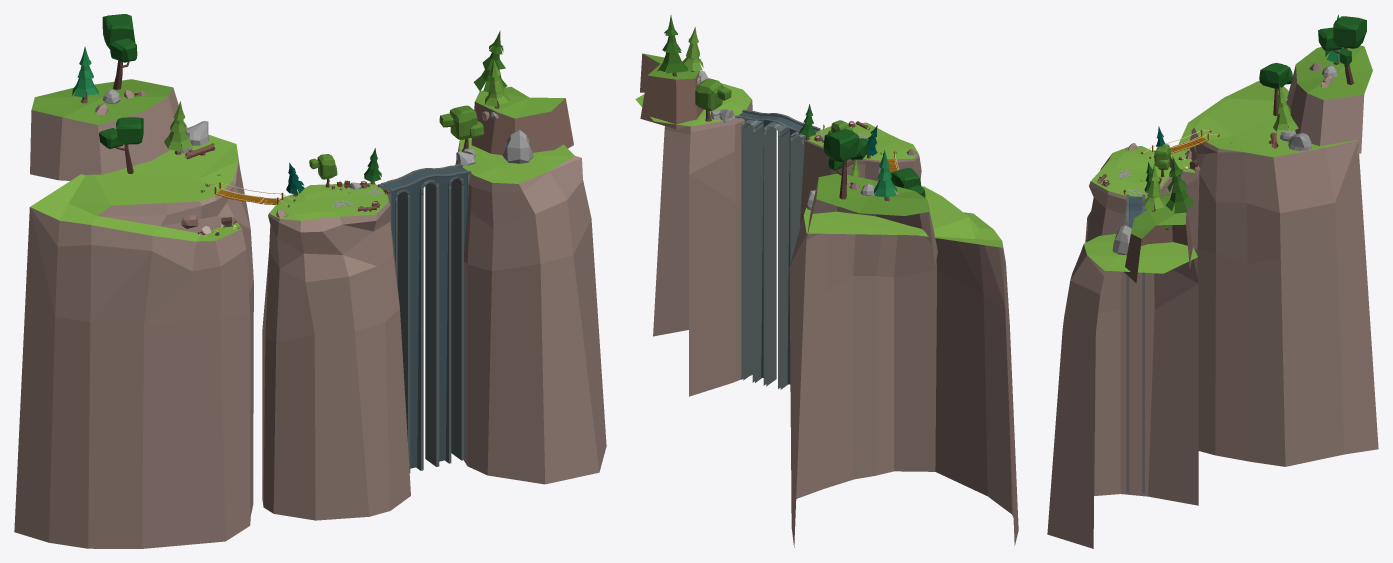
Rendered from Escenario_Completo (1).FBX.
The picture shows the model from 3 angles, left to right: view 1: azimuth 30°, elevation 25°; view 2: azimuth 150°, elevation 25°; view 3: azimuth 270°, elevation 25°; orthographic projection. The views are drawn at different scales.
Parts seen in each view (by area): view 1: Isla_Izquierda, Isla_Derecha, Isla_Central, Puente_Pierda, Detalle_Izquierda, Detalle_Derecha, Detalles_Central, Puente_Madera; view 2: Isla_Izquierda, Isla_Derecha, Puente_Pierda, Isla_Central, Detalle_Izquierda, Detalle_Derecha, Detalles_Central; view 3: Isla_Izquierda, Isla_Derecha, Detalle_Izquierda, Isla_Central, Puente_Pierda, Detalle_Derecha, Detalles_Central, Puente_Madera.
Part boxes in pixels (<box>): Isla_Izquierda: <box>14,79,253,548</box>; Isla_Derecha: <box>455,86,606,484</box>; Isla_Central: <box>262,182,410,520</box>; Puente_Pierda: <box>377,164,471,472</box>; Detalle_Izquierda: <box>72,14,241,235</box>; Detalle_Derecha: <box>439,30,533,167</box>; Detalles_Central: <box>276,148,387,217</box>; Puente_Madera: <box>200,182,296,207</box>; Isla_Izquierda: <box>789,173,1018,547</box>; Isla_Derecha: <box>635,53,752,396</box>; Puente_Pierda: <box>736,109,820,391</box>; Isla_Central: <box>800,122,921,226</box>; Detalle_Izquierda: <box>806,129,925,210</box>; Detalle_Derecha: <box>657,15,738,122</box>; Detalles_Central: <box>799,104,916,158</box>; Isla_Izquierda: <box>1169,45,1378,466</box>; Isla_Derecha: <box>1047,204,1198,548</box>; Detalle_Izquierda: <box>1178,14,1366,173</box>; Isla_Central: <box>1085,146,1173,242</box>; Puente_Pierda: <box>1125,194,1145,493</box>; Detalle_Derecha: <box>1112,156,1194,255</box>; Detalles_Central: <box>1097,126,1170,195</box>; Puente_Madera: <box>1140,130,1219,158</box>.
Bounding box in the file's own units: 1178 × 1029 × 750.
Materials: 4 (4 with a texture image).
